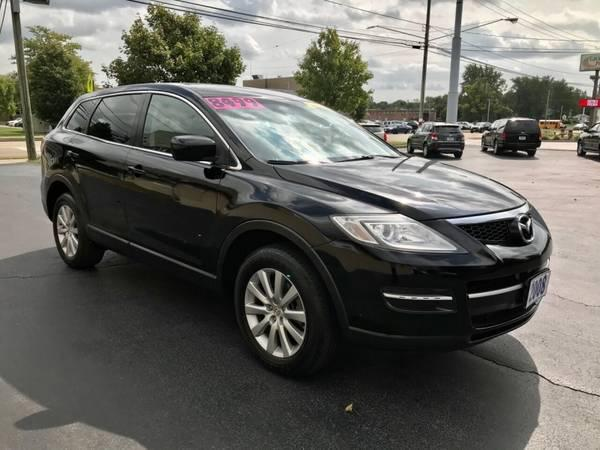Front_Bumper: (312, 223, 555, 349)
Front_Fender: (213, 163, 397, 271)
Front_Right_Door: (121, 144, 221, 274)
Front_Right_Window: (140, 93, 248, 173)
Front_Windshield: (206, 97, 400, 168)
Grille: (425, 204, 543, 261)
Hood: (272, 158, 530, 221)
Rear_Fender: (41, 97, 103, 205)
Rear_Right_Door: (73, 136, 127, 245)
Rear_Right_Window: (85, 94, 152, 146)
Right_Headlight: (334, 216, 474, 256)
Roof: (53, 84, 319, 169)
Wheel: (234, 242, 331, 369), (50, 193, 101, 264)
